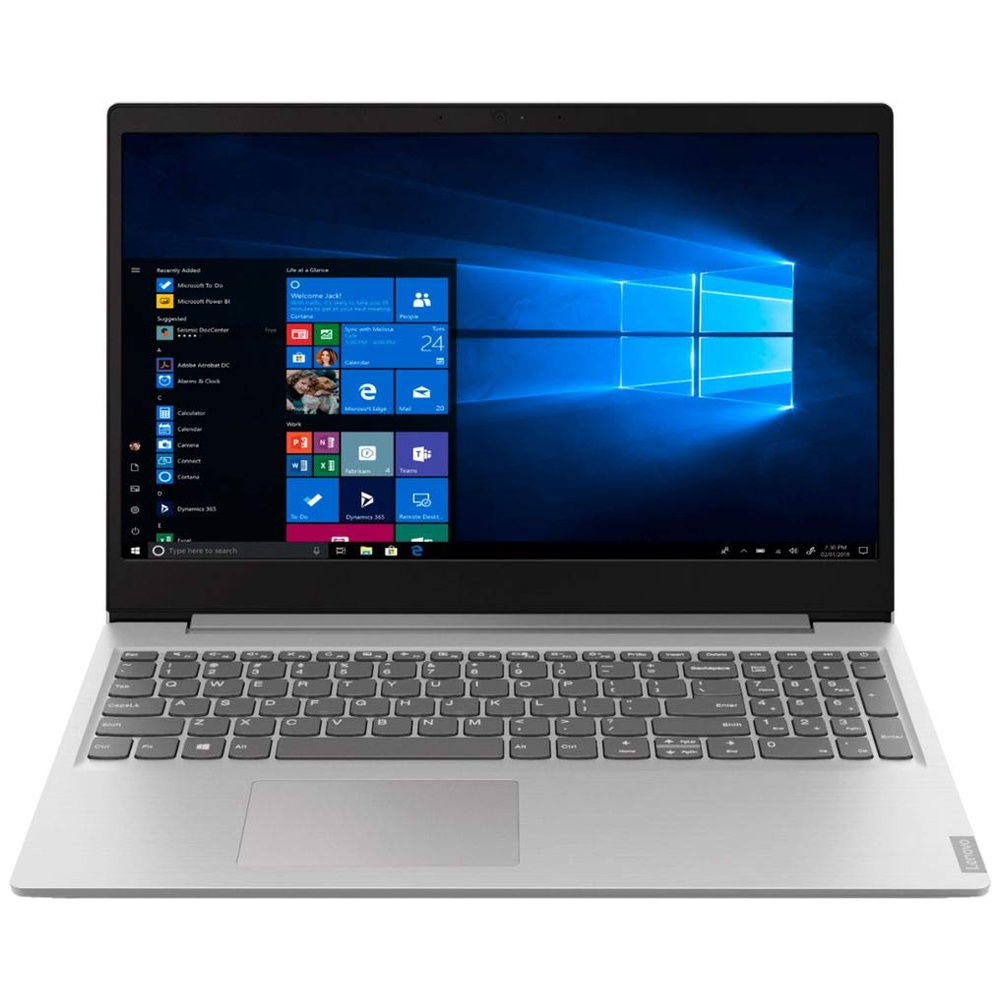Laptop: (1, 91, 1000, 917)
